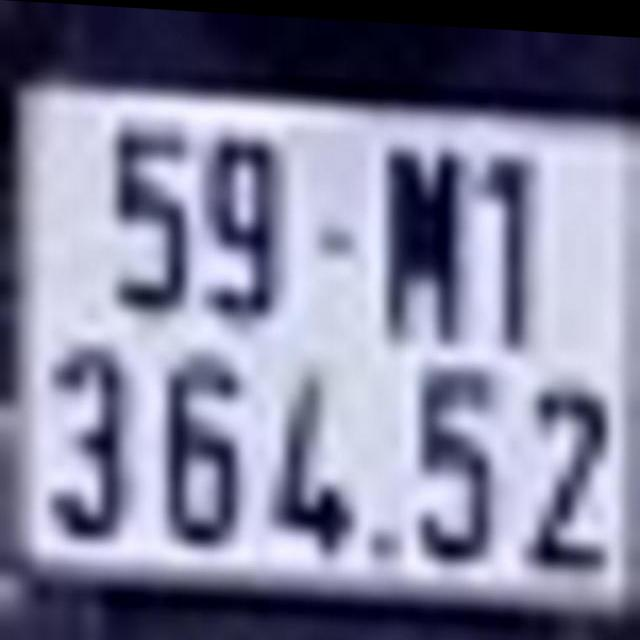1: (474, 139, 536, 347)
2: (520, 353, 618, 558)
3: (42, 325, 130, 541)
4: (266, 339, 356, 549)
5: (406, 348, 504, 558), (111, 115, 196, 310)
6: (150, 332, 250, 540)
9: (205, 123, 282, 327)
M: (378, 129, 462, 344)
